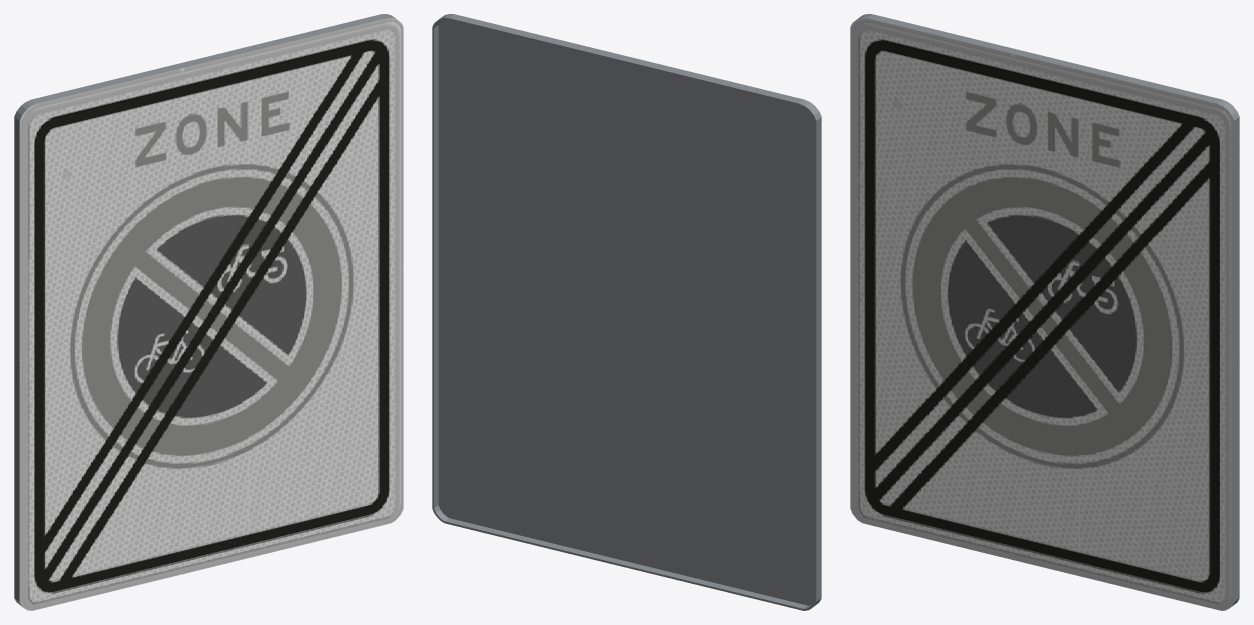
The picture shows the model from 3 angles, left to right: view 1: azimuth 30°, elevation 25°; view 2: azimuth 150°, elevation 25°; view 3: azimuth 330°, elevation 25°; orthographic projection.
Parts seen in each view (by area): view 1: cat_c98dd5082bfd06cd; view 2: cat_c98dd5082bfd06cd; view 3: cat_c98dd5082bfd06cd.
Part boxes in pixels (x1,y1,x2,y2): cat_c98dd5082bfd06cd: [14, 14, 403, 610]; cat_c98dd5082bfd06cd: [432, 14, 821, 610]; cat_c98dd5082bfd06cd: [850, 14, 1239, 610].
Bounding box in the file's own units: 0.6 × 0.015 × 0.7558.
2 materials, 1 textured.
